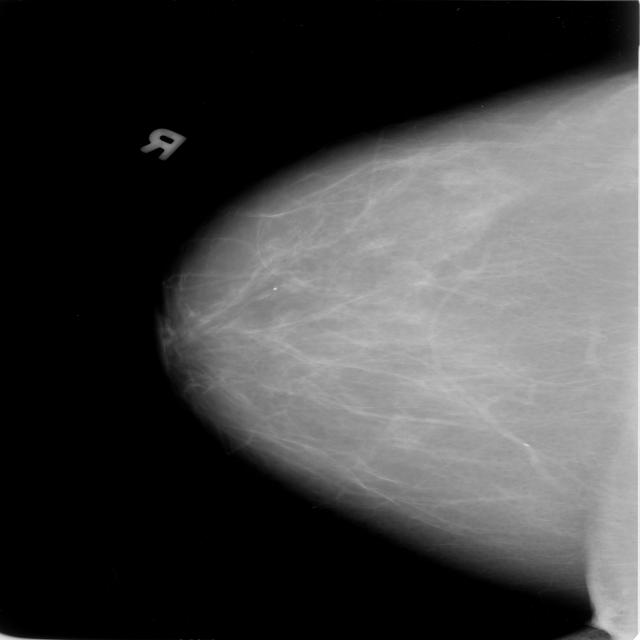normal: (159, 67, 640, 589)
